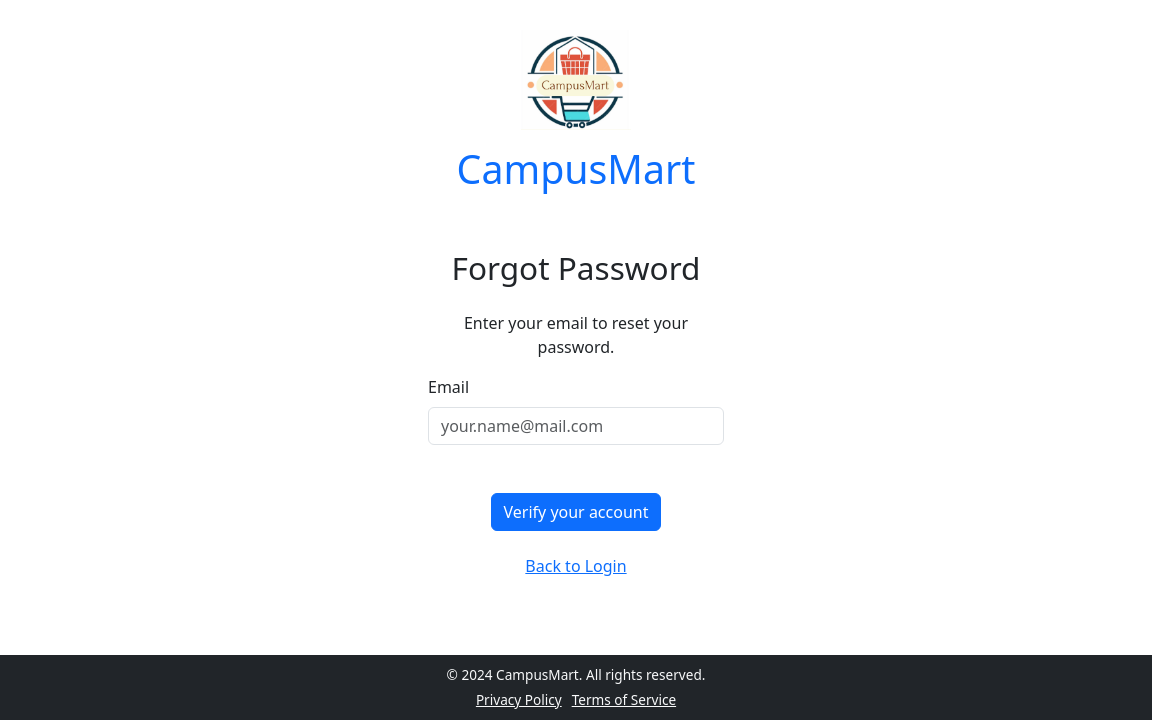
Test: Forgot Password Flow › should show an error if the email does not exist in the system
Type "nonexistentuser@mail.com" into the field labelled "Email" at [576, 426], box [428, 407, 724, 445]
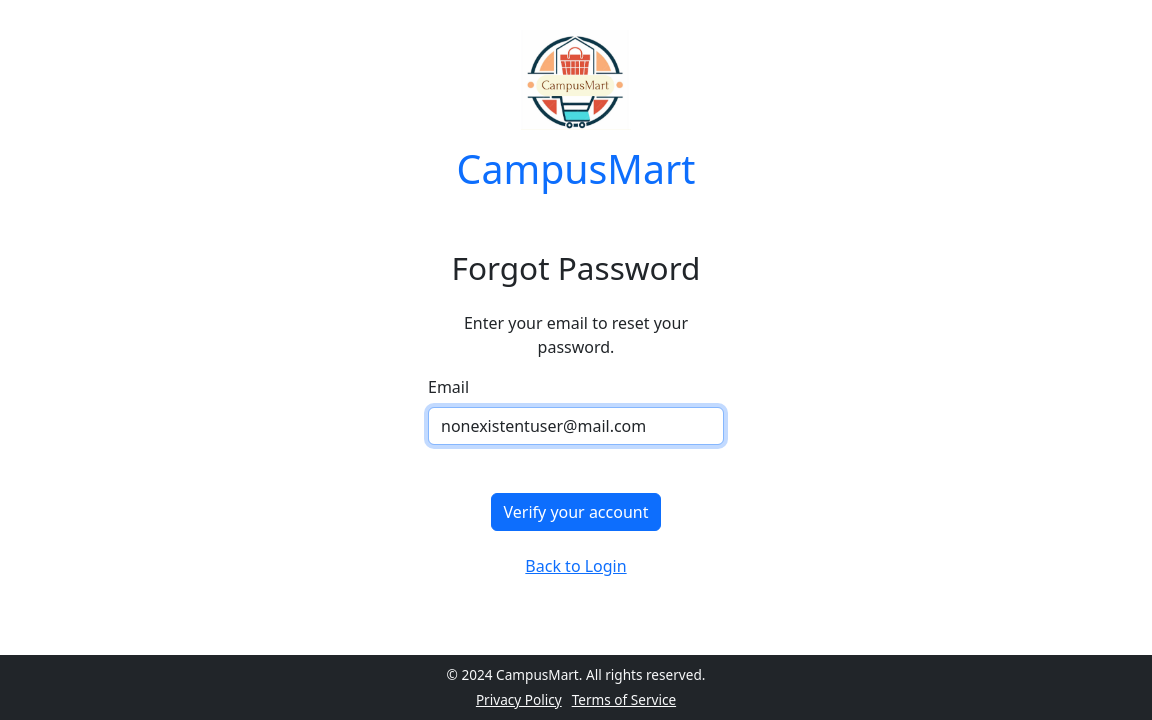
Click the submit button at [577, 512], box [491, 493, 662, 531]
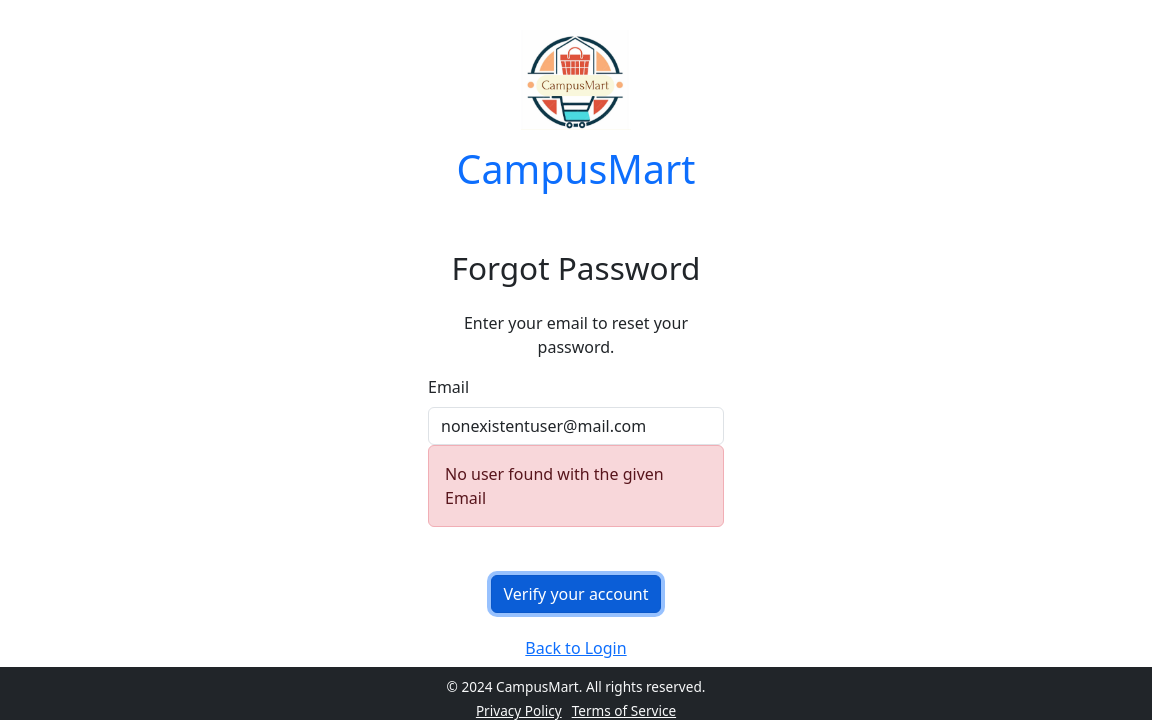
Expected: the text with class "alert-danger" reads "No user found with the given Email", [428, 445, 724, 527]
